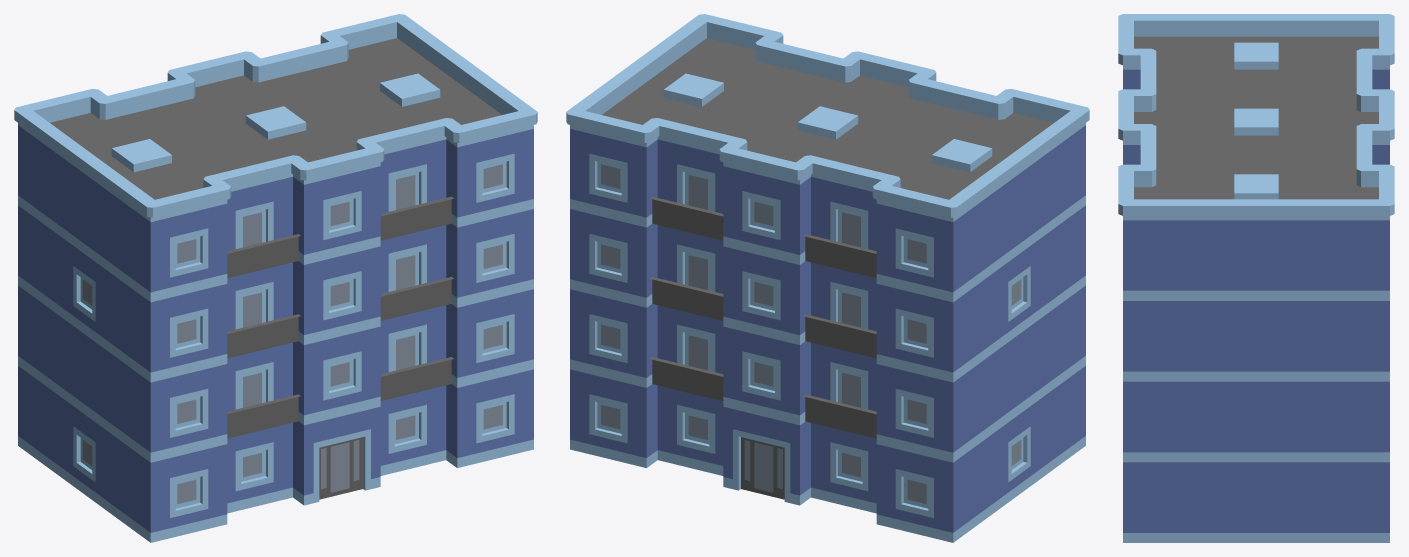
File: Building-2.glb
The picture shows the model from 3 angles, left to right: view 1: azimuth 30°, elevation 25°; view 2: azimuth 150°, elevation 25°; view 3: azimuth 270°, elevation 25°; orthographic projection.
Parts seen in each view (by area): view 1: large_buildingA; view 2: large_buildingA; view 3: large_buildingA.
Boxes of the visible parts, x1,y1,x2,y2 form: large_buildingA: (14, 14, 537, 542); large_buildingA: (566, 14, 1089, 542); large_buildingA: (1118, 14, 1394, 542).
Size of the model in its own units: 2.04 by 1.68 by 1.24.
